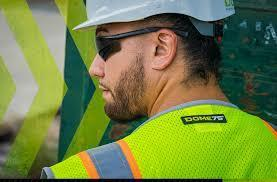Hard_hat: (71, 0, 244, 24)
Humans: (27, 14, 277, 182)
Vest: (56, 98, 277, 181)
Visor: (86, 26, 193, 64)
